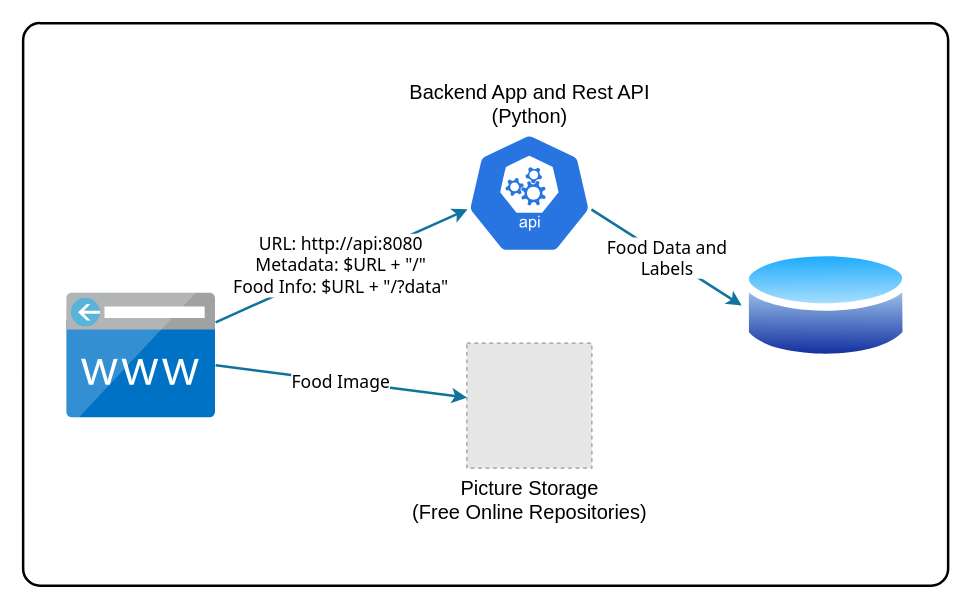
Some shapes in this 970 by 608 pixel diagram are drawn without their labels. Grey dashed boxes stand in for pictures. The shapes that lost their labels are listed below. From the top down, each one's centre as x and y in pixels, then its label:
point 825,305: Database (Google Sheets)
point 140,355: Frontend App (ReactJS)
